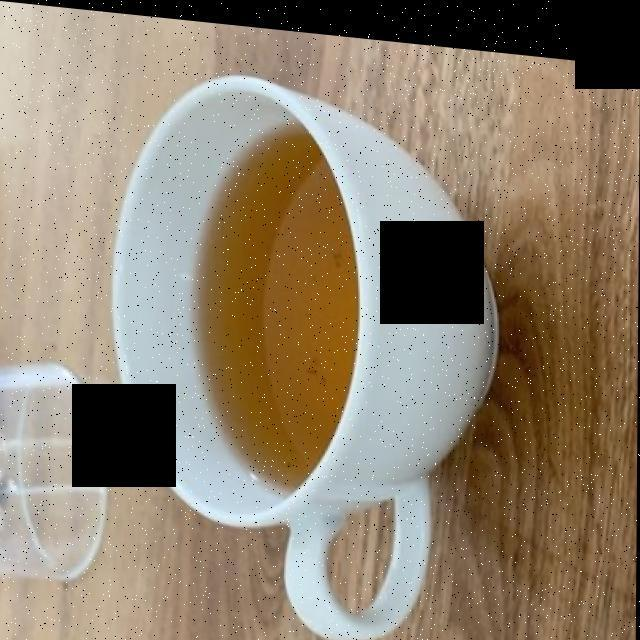tea: (196, 127, 356, 463)
